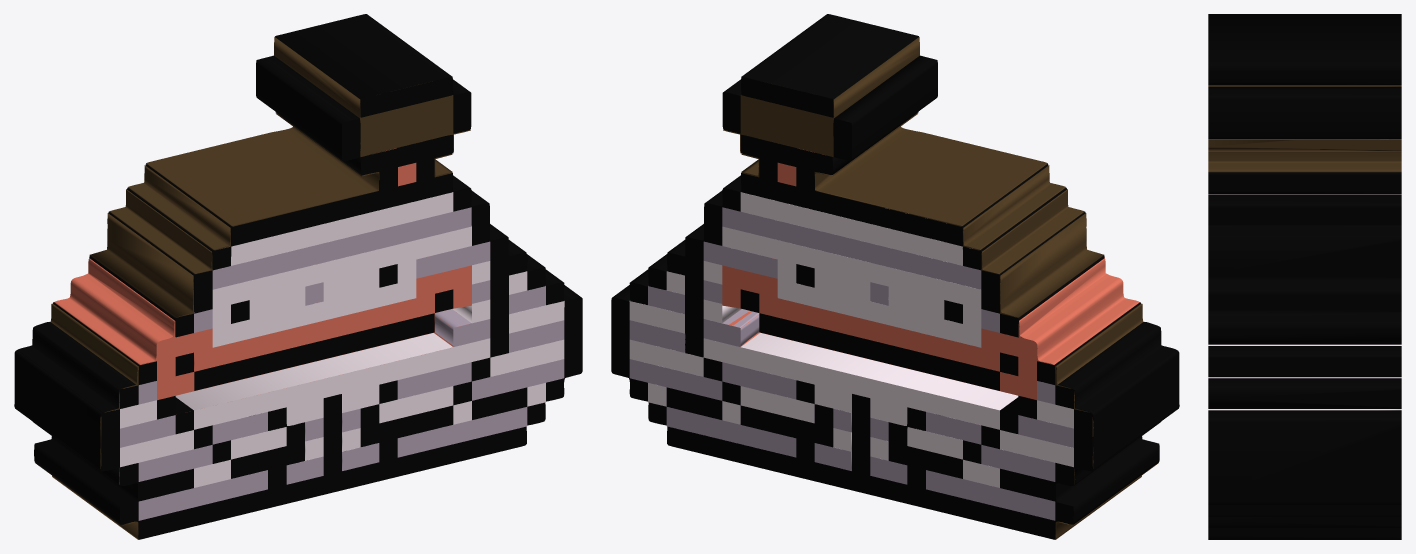
The model's file is Toadz_4393.glb.
The picture shows the model from 3 angles, left to right: view 1: azimuth 30°, elevation 25°; view 2: azimuth 150°, elevation 25°; view 3: azimuth 270°, elevation 25°; orthographic projection. The views are drawn at different scales.
Parts seen in each view (by area): view 1: Curve; view 2: Curve; view 3: Curve.
Part boxes in pixels (left/top/right/bottom): Curve: left=14, top=14, right=582, bottom=539; Curve: left=611, top=14, right=1179, bottom=539; Curve: left=1208, top=14, right=1401, bottom=539.
Bounding box in the file's own units: 3.24 × 2.49 × 1.
